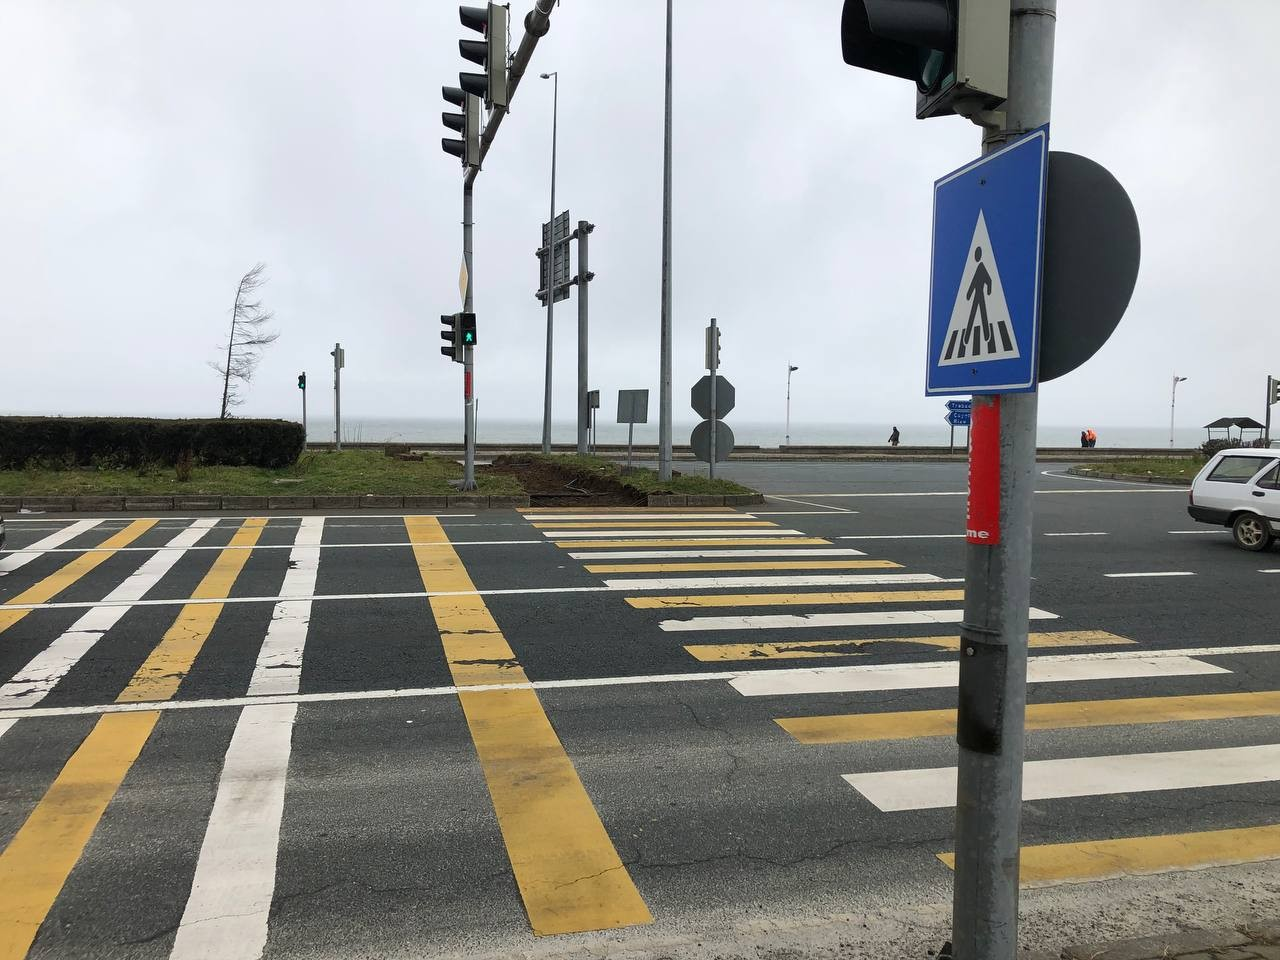yaya_gecidi_levha: (919, 130, 1047, 395)
